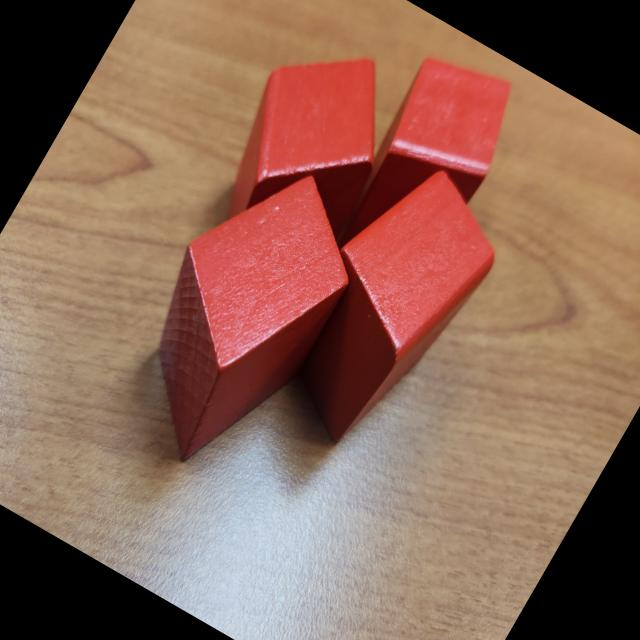red: (90, 138, 389, 494), (254, 146, 522, 469), (195, 19, 432, 278), (322, 38, 534, 292)
